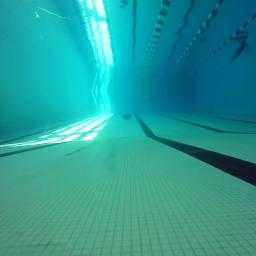Side: (123, 113, 131, 120)
